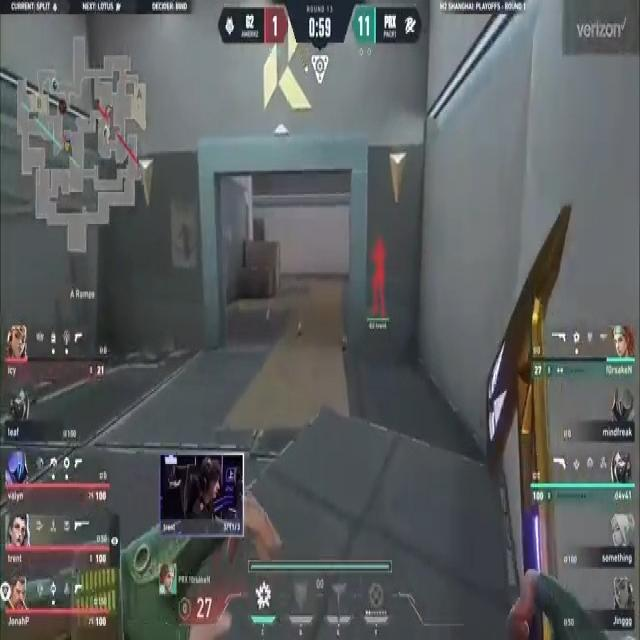enemy behind wall: (368, 231, 391, 327)
